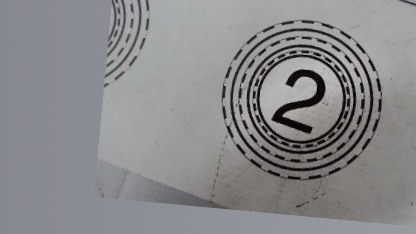2r: (207, 12, 390, 189)
